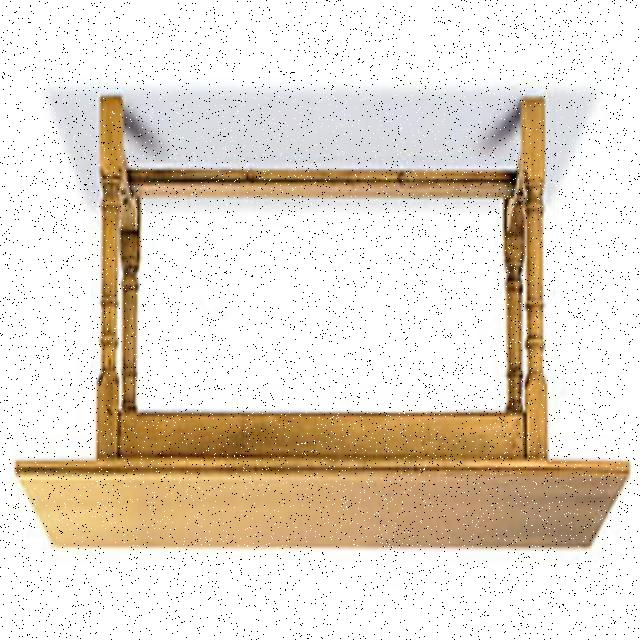mobile-phone: (9, 88, 631, 554)
